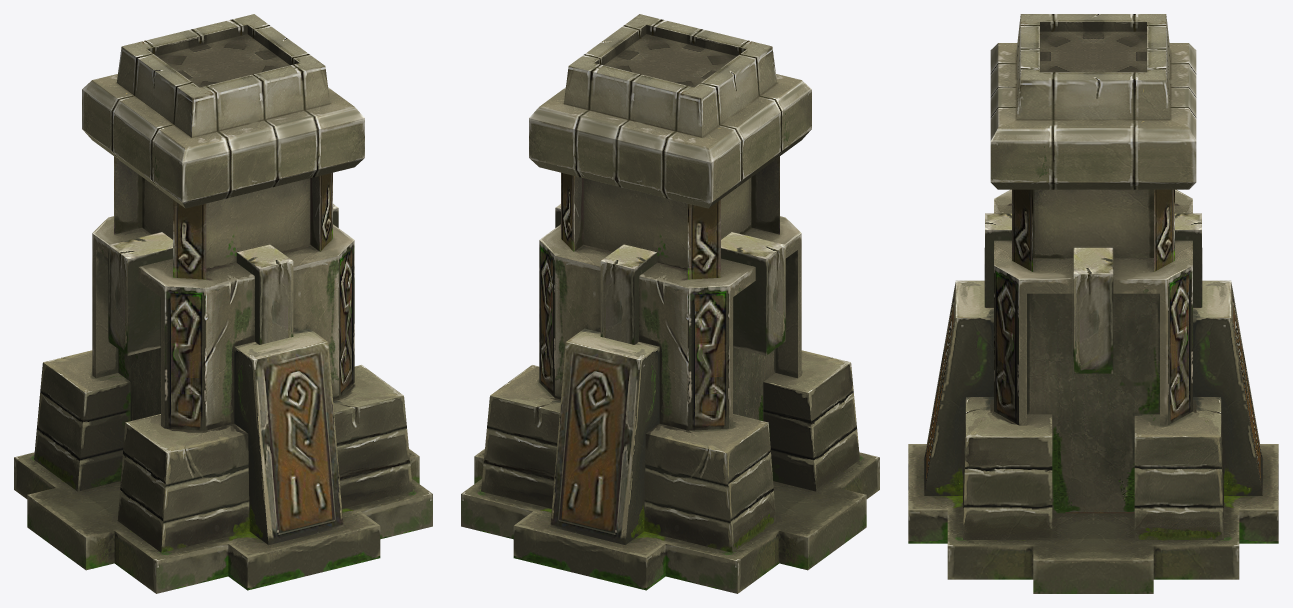
Rendered from fenghuozhu.FBX.
3 renders of one model, left to right at view 1: azimuth 30°, elevation 25°; view 2: azimuth 150°, elevation 25°; view 3: azimuth 270°, elevation 25°, orthographic. The views are drawn at different scales.
Parts seen in each view (by area): view 1: fenghuozhu_01; view 2: fenghuozhu_01; view 3: fenghuozhu_01.
Boxes of the visible parts, left/top/right/bottom form: fenghuozhu_01: left=14, top=14, right=432, bottom=593; fenghuozhu_01: left=461, top=14, right=879, bottom=593; fenghuozhu_01: left=908, top=14, right=1278, bottom=593.
Size of the model in its own units: 80.15 by 104 by 75.19.
